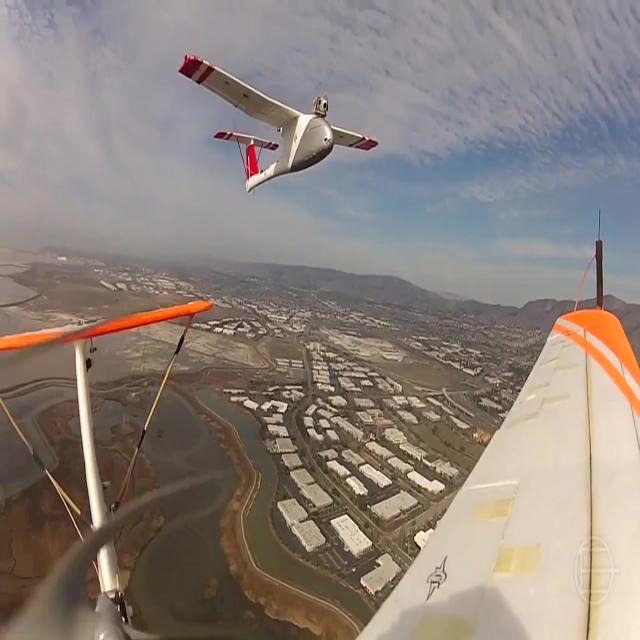iha: (180, 0, 377, 130)
